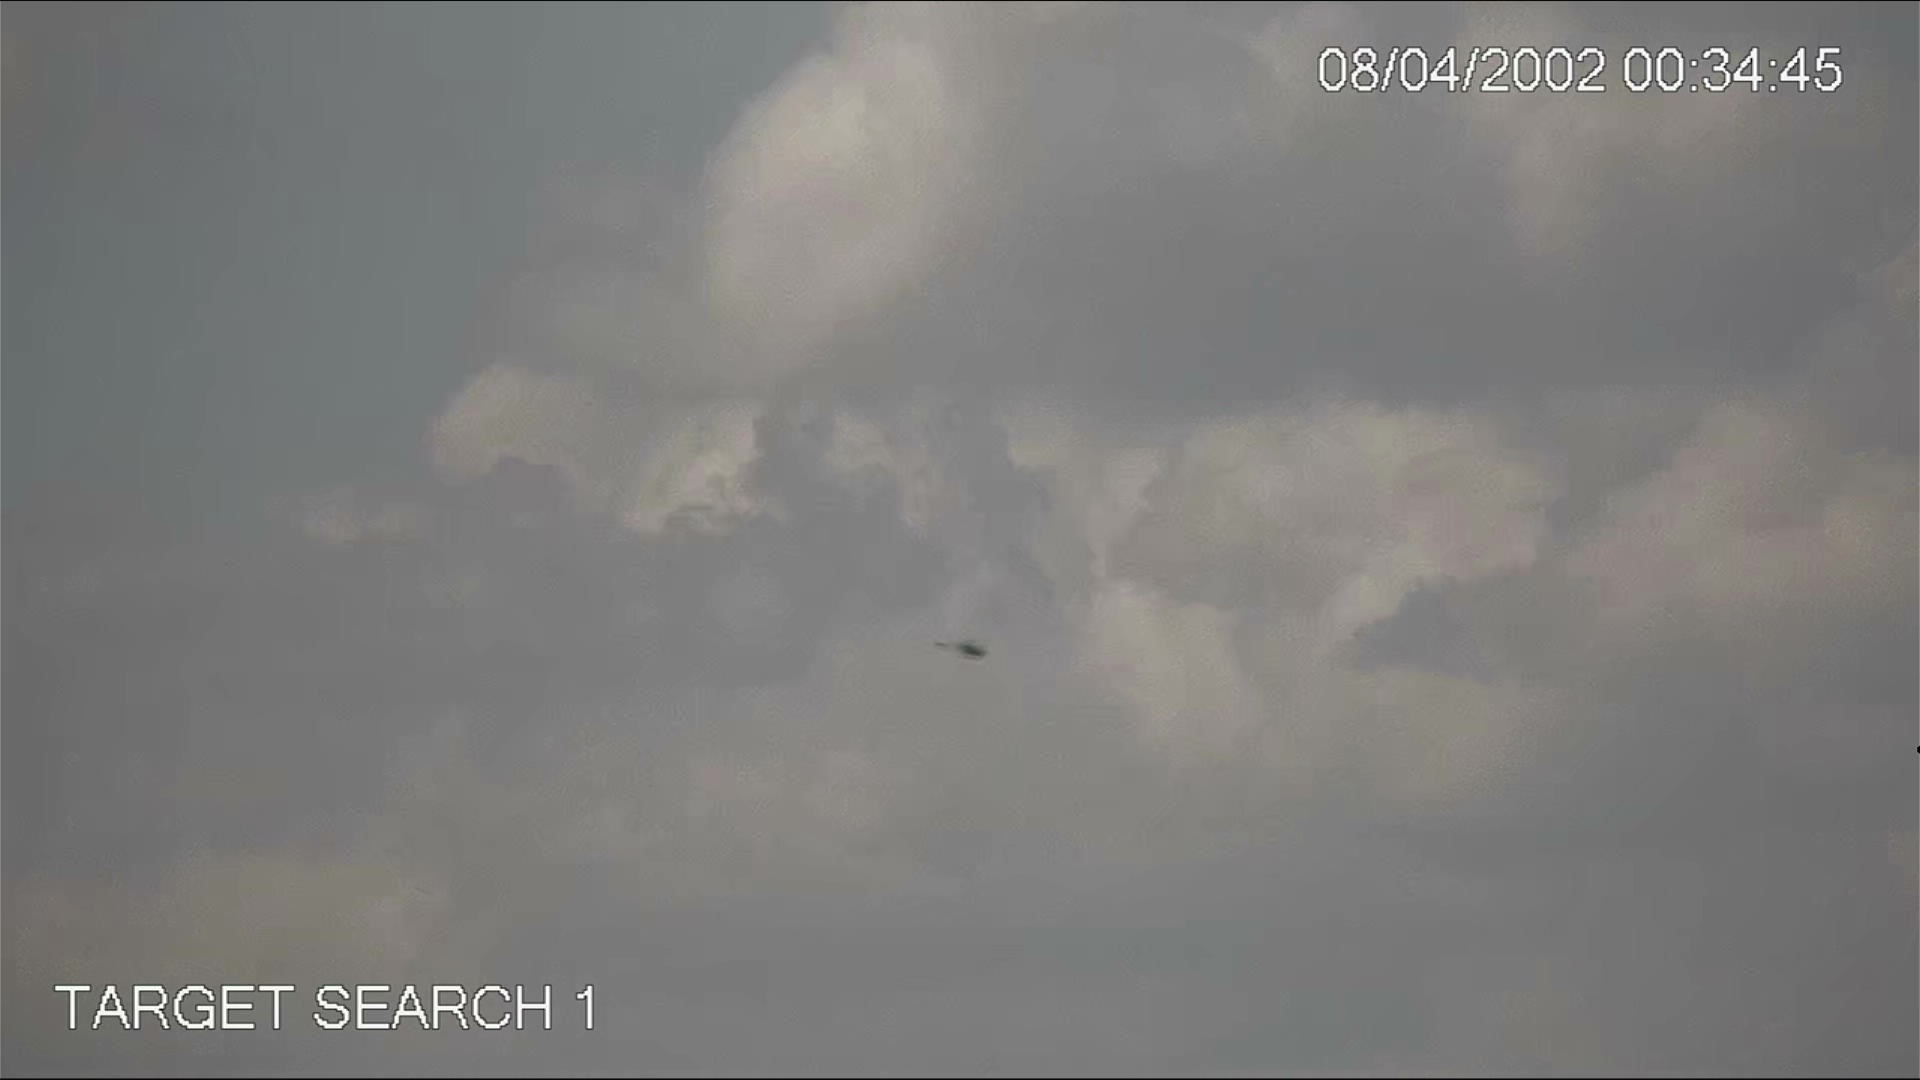SU_30: (928, 636, 1000, 669)
